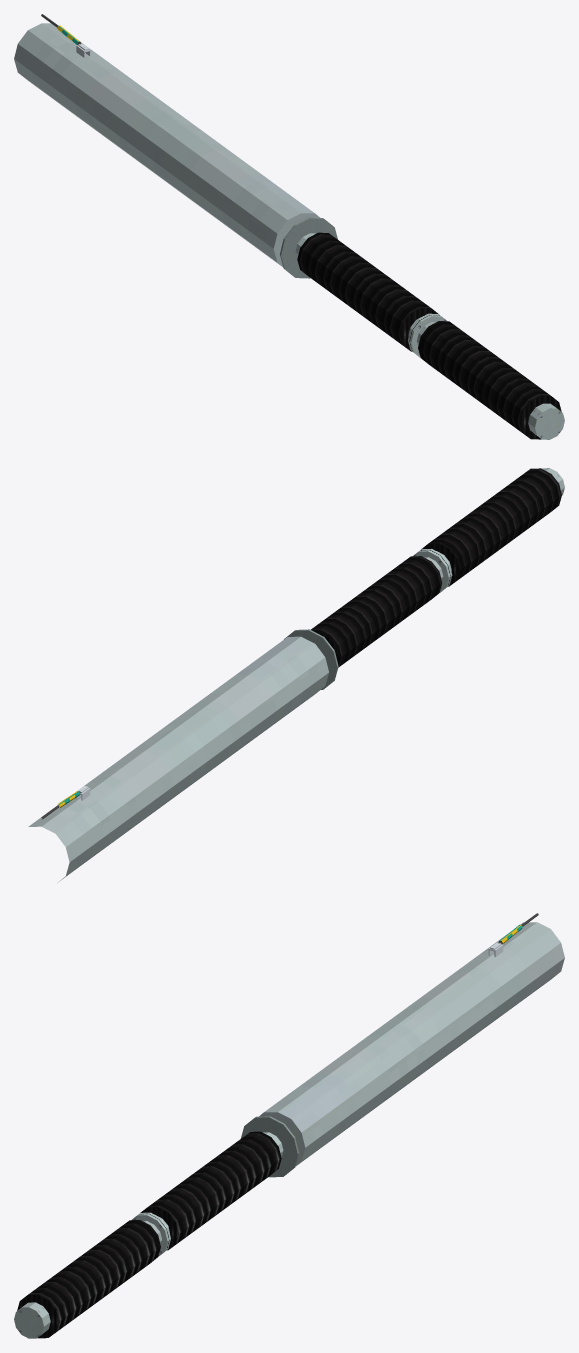
The model's file is ftzbzsb-zzjyz-093-geode.glb.
The picture shows the model from 3 angles, top to bottom: view 1: azimuth 30°, elevation 25°; view 2: azimuth 150°, elevation 25°; view 3: azimuth 330°, elevation 25°; orthographic projection.
Visible parts, largest first — view 1: Node; view 2: Node; view 3: Node.
Boxes of the visible parts, left/top/right/bottom form: Node: left=14, top=14, right=564, bottom=439; Node: left=28, top=468, right=564, bottom=881; Node: left=14, top=913, right=564, bottom=1338.
Bounding box in the file's own units: 0.3305 × 0.3953 × 5.06.
9 materials, 9 textured.
